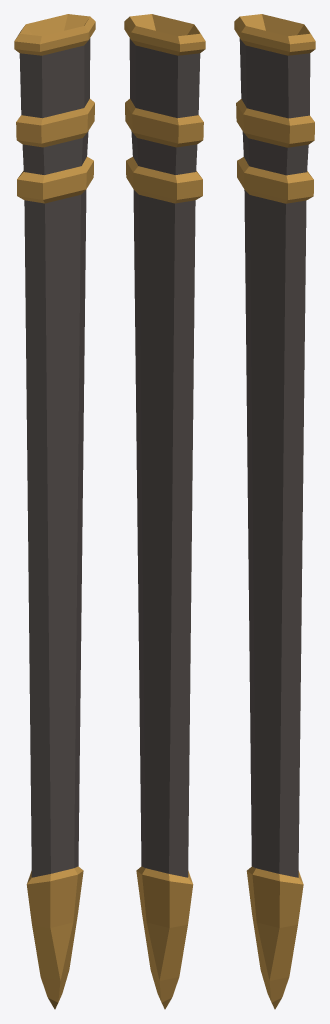
File: SM_pwe_medieval_sword_scabbard_05.fbx
3 views of the same model, side by side, from view 1: azimuth 30°, elevation 25°; view 2: azimuth 150°, elevation 25°; view 3: azimuth 330°, elevation 25° (orthographic).
Parts seen in each view (by area): view 1: SM_pwe_medieval_sword_scabbard_05; view 2: SM_pwe_medieval_sword_scabbard_05; view 3: SM_pwe_medieval_sword_scabbard_05.
Boxes of the visible parts, <box> form: SM_pwe_medieval_sword_scabbard_05: <box>14,14,95,1009</box>; SM_pwe_medieval_sword_scabbard_05: <box>124,14,205,1009</box>; SM_pwe_medieval_sword_scabbard_05: <box>234,14,315,1009</box>.
Bounding box in the file's own units: 6.46 × 74.54 × 2.58.
